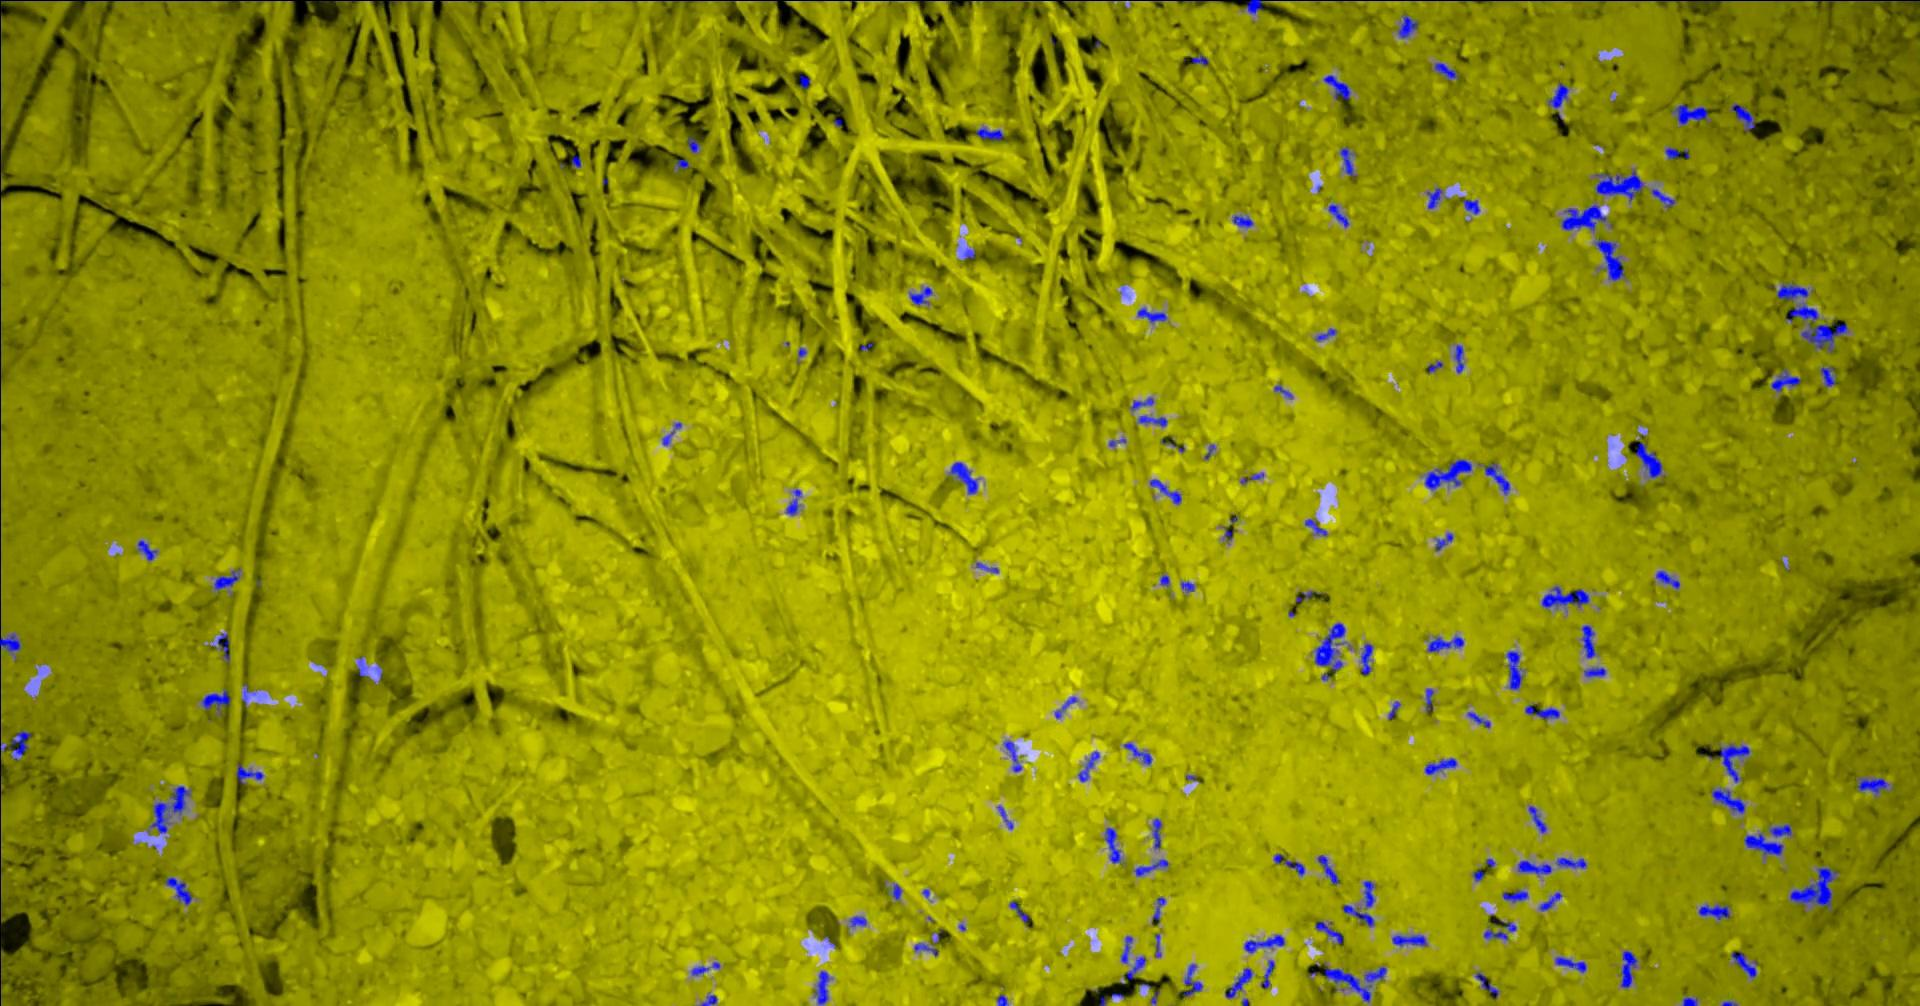ant: (1785, 304, 1848, 351), (1323, 962, 1385, 1002), (1789, 868, 1839, 911), (149, 785, 190, 833), (1705, 743, 1750, 782), (1595, 170, 1643, 201), (1423, 459, 1470, 489), (1314, 622, 1345, 669), (1594, 239, 1624, 279), (1561, 205, 1606, 231), (1542, 586, 1589, 608), (1743, 833, 1783, 857), (1636, 441, 1661, 478), (0, 730, 30, 760), (1224, 967, 1252, 998), (950, 462, 978, 493), (1710, 788, 1743, 813), (1177, 963, 1203, 996), (1149, 479, 1181, 504), (1672, 103, 1707, 124), (1484, 464, 1509, 494), (1243, 934, 1284, 951), (165, 876, 190, 904), (1730, 951, 1757, 977), (1770, 368, 1801, 391), (1272, 854, 1304, 875), (1323, 74, 1349, 100), (1077, 751, 1098, 781), (1317, 854, 1338, 884), (1342, 904, 1373, 926), (1134, 857, 1168, 876), (1474, 970, 1498, 997), (1731, 103, 1754, 131), (1316, 920, 1343, 942), (201, 688, 230, 710), (1506, 650, 1523, 688), (1483, 920, 1516, 939), (1620, 950, 1637, 987), (1123, 742, 1150, 763), (1524, 704, 1559, 720), (1103, 827, 1120, 862), (1777, 282, 1808, 300), (210, 633, 229, 662), (1123, 956, 1145, 981), (213, 568, 239, 589), (1427, 636, 1463, 652), (1003, 741, 1021, 771), (235, 763, 263, 782), (814, 970, 829, 1005), (1397, 13, 1417, 38), (1548, 83, 1568, 108), (1338, 146, 1355, 177), (1423, 758, 1457, 774), (1054, 696, 1077, 718), (1328, 203, 1349, 227), (1698, 904, 1730, 920), (1581, 624, 1595, 658), (1528, 805, 1545, 832), (1556, 956, 1586, 972), (1517, 860, 1550, 874), (1390, 934, 1426, 946), (1137, 307, 1166, 323), (1857, 777, 1886, 793), (1651, 188, 1674, 207), (909, 286, 932, 305), (662, 422, 681, 445), (1010, 901, 1029, 923), (1655, 570, 1679, 588), (785, 489, 801, 514), (0, 633, 20, 653), (137, 539, 156, 560), (1260, 959, 1274, 988), (996, 805, 1012, 829), (975, 127, 1003, 141), (1539, 892, 1561, 909), (1434, 62, 1457, 79), (1304, 518, 1327, 535), (1150, 897, 1164, 923), (1360, 643, 1371, 674), (1467, 711, 1490, 727), (1426, 187, 1441, 208), (1663, 146, 1689, 159), (1502, 889, 1528, 902), (1295, 591, 1323, 602), (1120, 935, 1131, 963), (1820, 366, 1835, 386), (1556, 857, 1586, 868), (1363, 880, 1374, 907), (1138, 415, 1167, 426), (1435, 532, 1451, 550), (1130, 398, 1153, 410), (914, 942, 937, 955), (1239, 473, 1263, 484), (1769, 824, 1790, 837), (1152, 818, 1161, 848), (1454, 344, 1463, 373), (1232, 215, 1252, 227), (1316, 328, 1336, 340), (1462, 199, 1479, 213), (975, 561, 998, 572), (888, 883, 902, 899), (1244, 0, 1262, 13), (357, 655, 367, 676), (1190, 53, 1208, 65), (1583, 667, 1605, 676), (687, 136, 698, 152), (850, 915, 866, 926), (691, 965, 709, 976), (698, 995, 716, 1005), (674, 158, 688, 170), (1425, 688, 1432, 711), (797, 74, 809, 88), (1180, 580, 1194, 592), (1154, 934, 1161, 956), (1683, 996, 1697, 1005), (1655, 0, 1723, 1), (1854, 0, 1919, 1)
